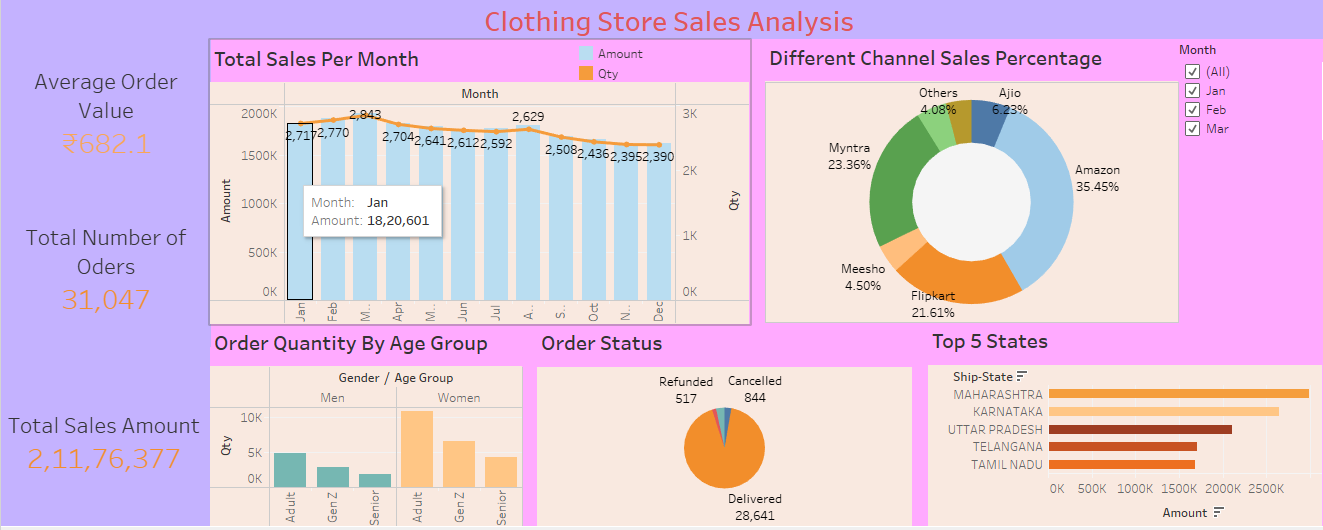

Layout of this report page (visuals, bound fields, positions):
{"tool":"tableau","page":{"name":"Dashboard 1","canvas":[1000,1000],"units":"permille","ordinal":0},"visuals":[{"type":"worksheet","title":"Sheet 7","mark":"Automatic","box":[0,70,150,300]},{"type":"worksheet","title":"Different Channel Sales Percentage","mark":"Pie","rows":["Calculation_1342354189505339392","Calculation_1342354189505339392"],"box":[545.7,78.6,295.7,538.6]},{"type":"worksheet","title":"Total Sales Per Month","mark":"Line","rows":["Amount","Qty"],"cols":["Month"],"box":[149.3,80,385.7,537.1]},{"type":"filter","title":"Top 5 States","param":"[federated.0isxyom0m28dd912ns64b0rl8oh7].[none:Month:nk]","box":[841.4,81.7,114.3,186.7]},{"type":"legend","title":"Total Sales Per Month","param":"[federated.0isxyom0m28dd912ns64b0rl8oh7].[:Measure Names]","box":[410.7,85,100,96.7]},{"type":"legend","title":"Order Quantity By Age Group","param":"[federated.0isxyom0m28dd912ns64b0rl8oh7].[none:Gender:nk]","box":[737.9,226.7,100,96.7]},{"type":"worksheet","title":"Top 5 States","mark":"Automatic","rows":["ship-state"],"cols":["Amount"],"box":[662.1,613.3,281.4,390]},{"type":"worksheet","title":"Order Quantity By Age Group","mark":"Automatic","rows":["Qty"],"cols":["Gender","Age Group"],"box":[149.3,616.7,223.6,388.3]}]}

Visuals, with their boxes on the dashboard's canvas, which has no fixed pixel size, in thousandths of its width and height (x1, y1, x2, y2). These are canvas units, not pixel positions in the 1323x530 screenshot, which may show the page scaled, cropped or inside an application window:
"Sheet 7" worksheet: [x1=0, y1=70, x2=150, y2=370]
"Different Channel Sales Percentage" worksheet (Pie marks): [x1=546, y1=79, x2=841, y2=617]
"Total Sales Per Month" worksheet (Line marks): [x1=149, y1=80, x2=535, y2=617]
"Top 5 States" filter: [x1=841, y1=82, x2=956, y2=268]
"Total Sales Per Month" legend: [x1=411, y1=85, x2=511, y2=182]
"Order Quantity By Age Group" legend: [x1=738, y1=227, x2=838, y2=323]
"Top 5 States" worksheet: [x1=662, y1=613, x2=944, y2=1003]
"Order Quantity By Age Group" worksheet: [x1=149, y1=617, x2=373, y2=1005]
